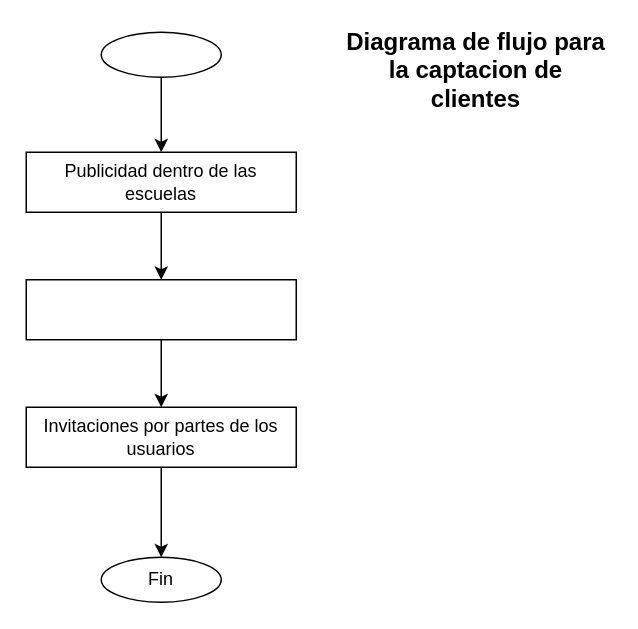
This 638x629 diagram has some shape labels left out. Here are the shapes that lost their labels. From the top down, the centre of each, then its label:
At point (160, 54): "Inicio".
At point (160, 309): "Promociones para usuarios nuevos".
